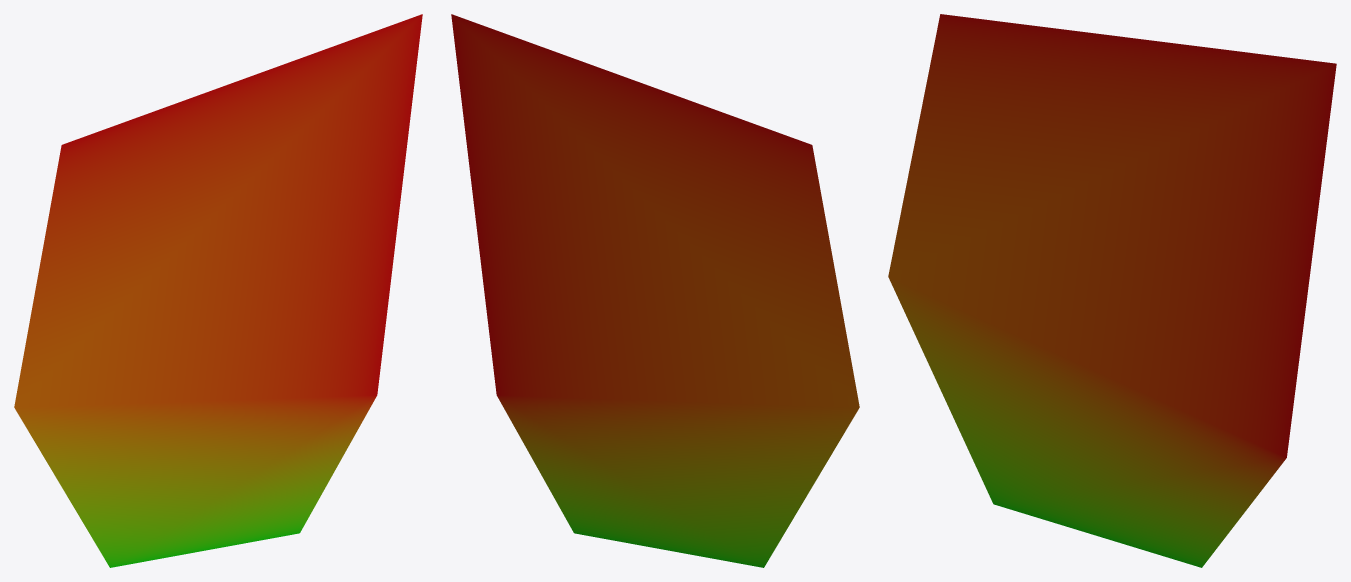
The model's file is Thatching Grass_LOD4_Var3_uddmcgbia.fbx.
3 renders of one model, left to right at view 1: azimuth 30°, elevation 25°; view 2: azimuth 150°, elevation 25°; view 3: azimuth 330°, elevation 25°, orthographic. The views are drawn at different scales.
Parts seen in each view (by area): view 1: _62df_Var3_LOD4; view 2: _62df_Var3_LOD4; view 3: _62df_Var3_LOD4.
Boxes of the visible parts, x1=… form: _62df_Var3_LOD4: x1=14, y1=14, x2=422, y2=567; _62df_Var3_LOD4: x1=451, y1=14, x2=859, y2=567; _62df_Var3_LOD4: x1=888, y1=14, x2=1336, y2=567.
Size of the model in its own units: 33.6 by 38.45 by 5.01e-06.
